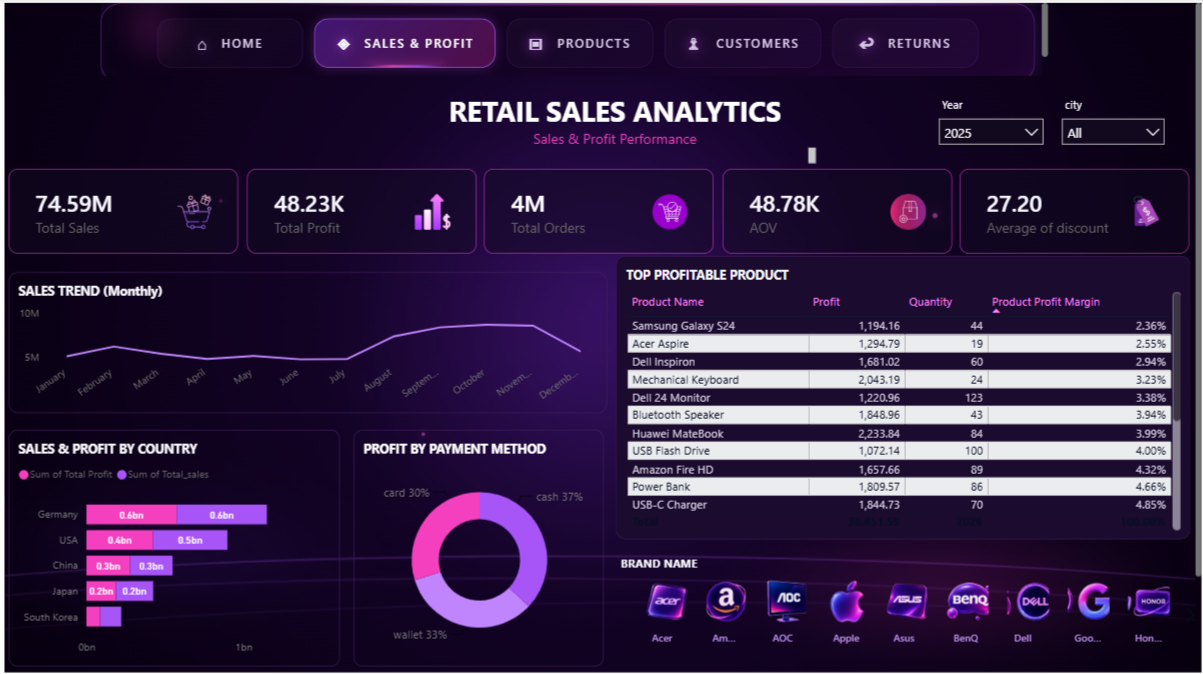

The dashboard page shown, as its layout file describes it:
{"tool":"powerbi","page":{"name":"Sales& Profit","canvas":[1280,720],"ordinal":1},"visuals":[{"type":"textStylerD577C9FF21FB4883A1CE1335C340B54F","fields":{"measure":["supplier.Animated Background"]},"box":[0,0,1279.7,720.3],"z":0},{"type":"advancedSlicerVisual","fields":{"Values":["BrandImages.brand_name"]},"box":[653.9,591.5,624,111],"z":1000},{"type":"barChart","title":"SALES & PROFIT BY COUNTRY","fields":{"Category":["brand.country"],"Y":["Sum(order_items.Total Profit)","Sum(product.Total_sales)"]},"box":[9.5,458.1,351.5,251.3],"z":2000},{"type":"textStylerD577C9FF21FB4883A1CE1335C340B54F","fields":{"measure":["supplier.Page Navigator sales"]},"box":[102,0,1014.8,86.9],"z":3000},{"type":"textbox","title":"RETAIL SALES ANALYTICS","box":[434.6,100.2,436.5,81.3],"z":4000},{"type":"cardVisual","fields":{"Data":["orders.Total Sales"]},"box":[9.4,181.4,243.6,90.2],"z":5000},{"type":"cardVisual","fields":{"Data":["Avg(promotion.discount_percent)"]},"box":[1018.6,181.4,243.6,90.2],"z":6000},{"type":"cardVisual","fields":{"Data":["product.Total Profit"]},"box":[261.7,181.4,243.6,90.2],"z":7000},{"type":"cardVisual","fields":{"Data":["orders.Total Orders"]},"box":[514,181.4,243.6,90.2],"z":8000},{"type":"cardVisual","fields":{"Data":["product.AOV"]},"box":[766.3,181.4,243.6,90.2],"z":9000},{"type":"donutChart","title":"PROFIT BY PAYMENT METHOD","fields":{"Category":["orders.payment_method"],"Y":["Sum(order_items.Total Profit)"]},"box":[375.4,458.1,265.6,251.3],"z":10000},{"type":"tableEx","title":"TOP PROFITABLE PRODUCT","fields":{"Values":["product.name","Sum(product.profit)","Sum(order_items.quantity)","Divide(Sum(product.Product Profit Margin), ScopedEval(Sum(product.Product Profit Margin), [Role.Columns]))"]},"box":[653.9,274,608.5,300.5],"z":11000},{"type":"lineChart","title":"SALES TREND (Monthly)","fields":{"Category":["orders.order_date.Variation.Date Hierarchy.Month"],"Y":["orders.Total Sales"]},"box":[9.4,291,635,149.3],"z":12000},{"type":"slicer","fields":{"Values":["orders.delivery_date.Variation.Date Hierarchy.Year"]},"box":[986.5,100.2,130.4,60.5],"z":13000},{"type":"slicer","fields":{"Values":["customer.city"]},"box":[1116.9,100.2,128.5,60.5],"z":14000},{"type":"pageNavigator","box":[157.5,17.5,730.3,50.2],"z":14001},{"type":"actionButton","box":[897.1,19.1,138,49.1],"z":14002}]}

Visuals, with their boxes in screenshot pixels (x1, y1, x2, y2), scaled from the page's 1280x720 canvas onto the 1203x674 screenshot:
textStylerD577C9FF21FB4883A1CE1335C340B54F - supplier.Animated Background: <bbox>0, 0, 1202, 673</bbox>
advancedSlicerVisual - BrandImages.brand_name: <bbox>615, 554, 1201, 658</bbox>
"SALES & PROFIT BY COUNTRY" barChart: <bbox>9, 429, 339, 664</bbox>
textStylerD577C9FF21FB4883A1CE1335C340B54F - supplier.Page Navigator sales: <bbox>96, 0, 1050, 81</bbox>
"RETAIL SALES ANALYTICS" textbox: <bbox>408, 94, 819, 170</bbox>
cardVisual - orders.Total Sales: <bbox>9, 170, 238, 254</bbox>
cardVisual - Avg(promotion.discount_percent): <bbox>957, 170, 1186, 254</bbox>
cardVisual - product.Total Profit: <bbox>246, 170, 475, 254</bbox>
cardVisual - orders.Total Orders: <bbox>483, 170, 712, 254</bbox>
cardVisual - product.AOV: <bbox>720, 170, 949, 254</bbox>
"PROFIT BY PAYMENT METHOD" donutChart: <bbox>353, 429, 602, 664</bbox>
"TOP PROFITABLE PRODUCT" tableEx: <bbox>615, 256, 1186, 538</bbox>
"SALES TREND (Monthly)" lineChart: <bbox>9, 272, 606, 412</bbox>
slicer - orders.delivery_date.Variation.Date Hierarchy.Year: <bbox>927, 94, 1050, 150</bbox>
slicer - customer.city: <bbox>1050, 94, 1170, 150</bbox>
pageNavigator: <bbox>148, 16, 834, 63</bbox>
actionButton: <bbox>843, 18, 973, 64</bbox>
